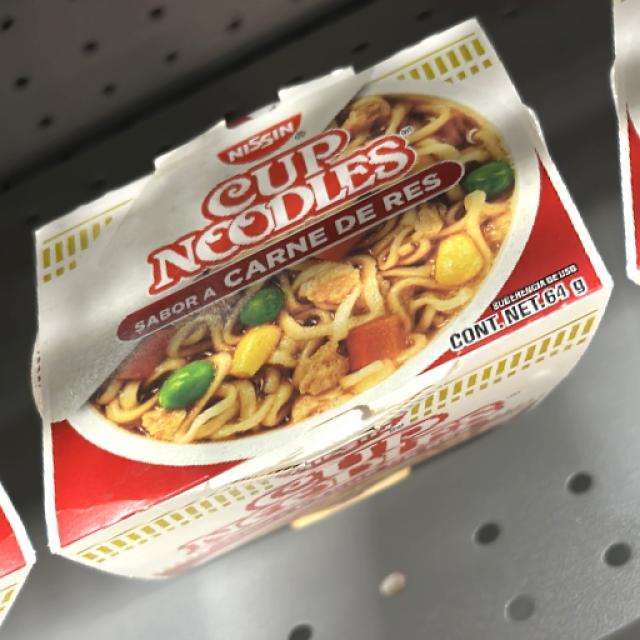nissinRes: (65, 175, 556, 498)
